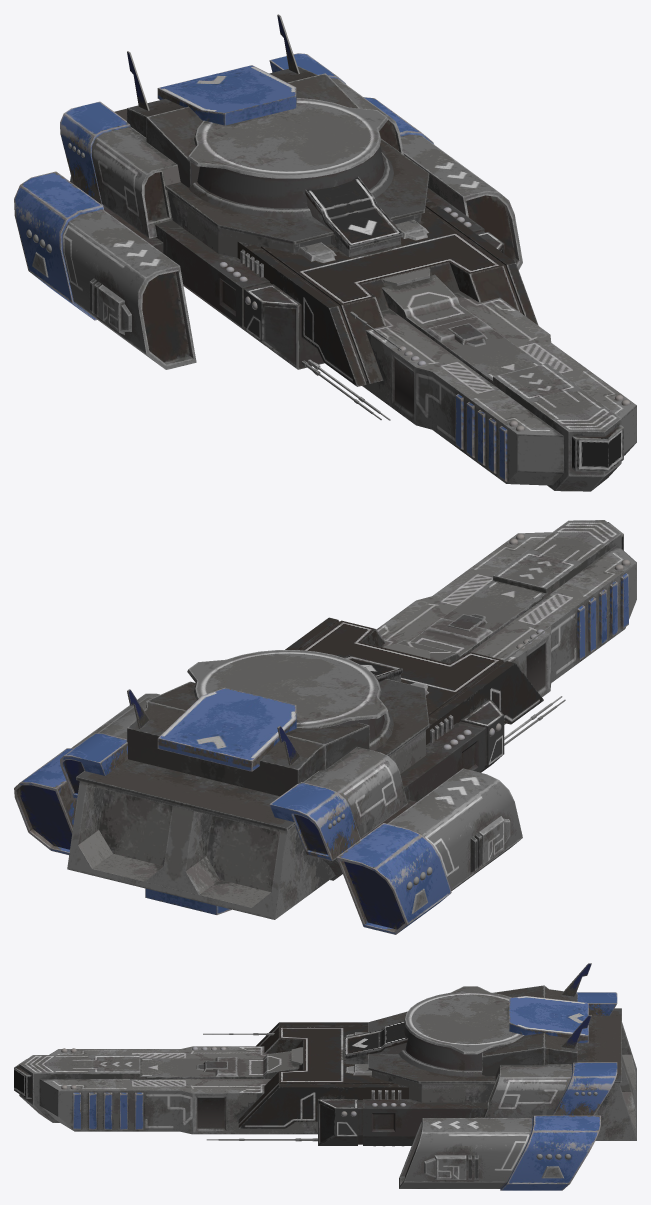
File: insurgent.glb
3 views of the same model, one above another, from view 1: azimuth 30°, elevation 25°; view 2: azimuth 150°, elevation 25°; view 3: azimuth 270°, elevation 25° (orthographic). The views are drawn at different scales.
Visible parts, largest first — view 1: Insurgent; view 2: Insurgent; view 3: Insurgent.
Part boxes in pixels (x1=…): Insurgent: x1=14, y1=14, x2=636, y2=491; Insurgent: x1=14, y1=520, x2=636, y2=934; Insurgent: x1=14, y1=963, x2=636, y2=1190.
Size of the model in its own units: 5.57 by 2.87 by 10.95.
Materials: 1 (1 with a texture image).
